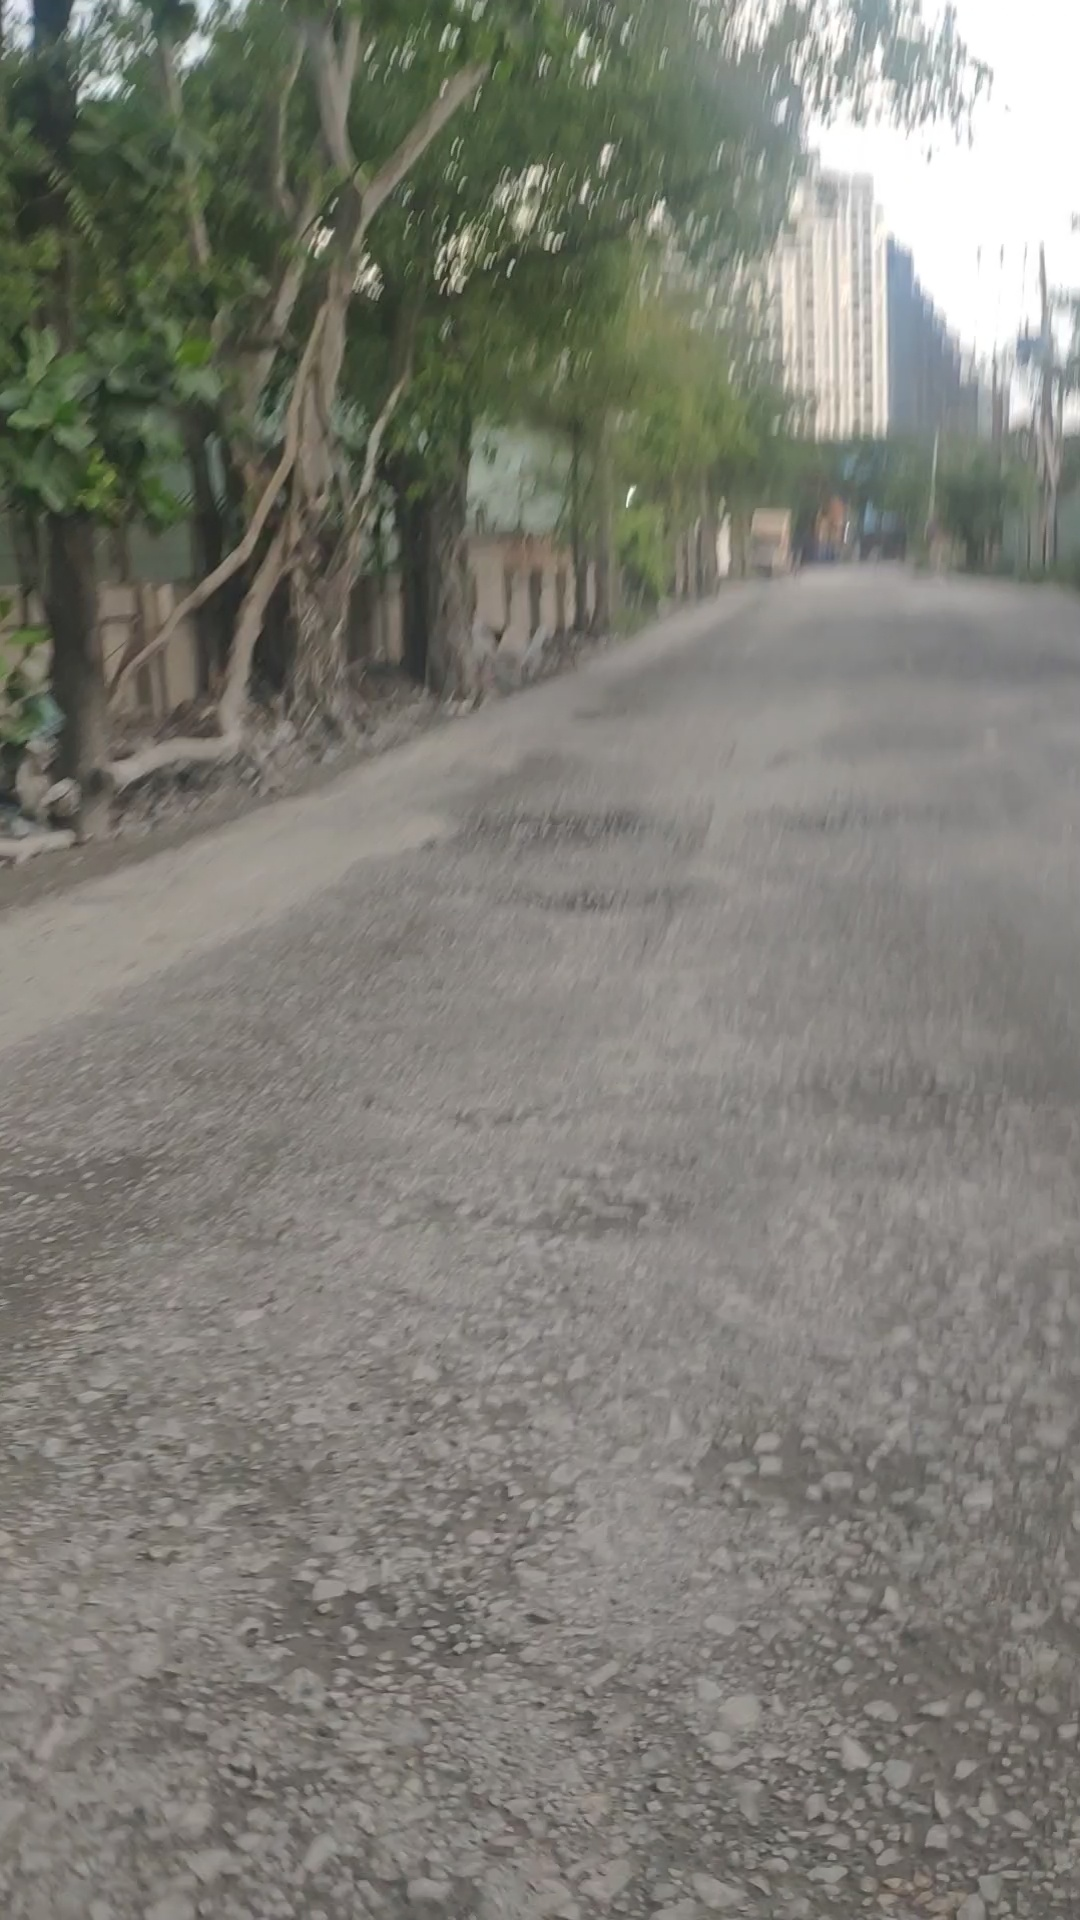hole: (745, 1036, 981, 1135), (444, 868, 737, 918), (469, 802, 696, 851), (742, 789, 971, 836)
